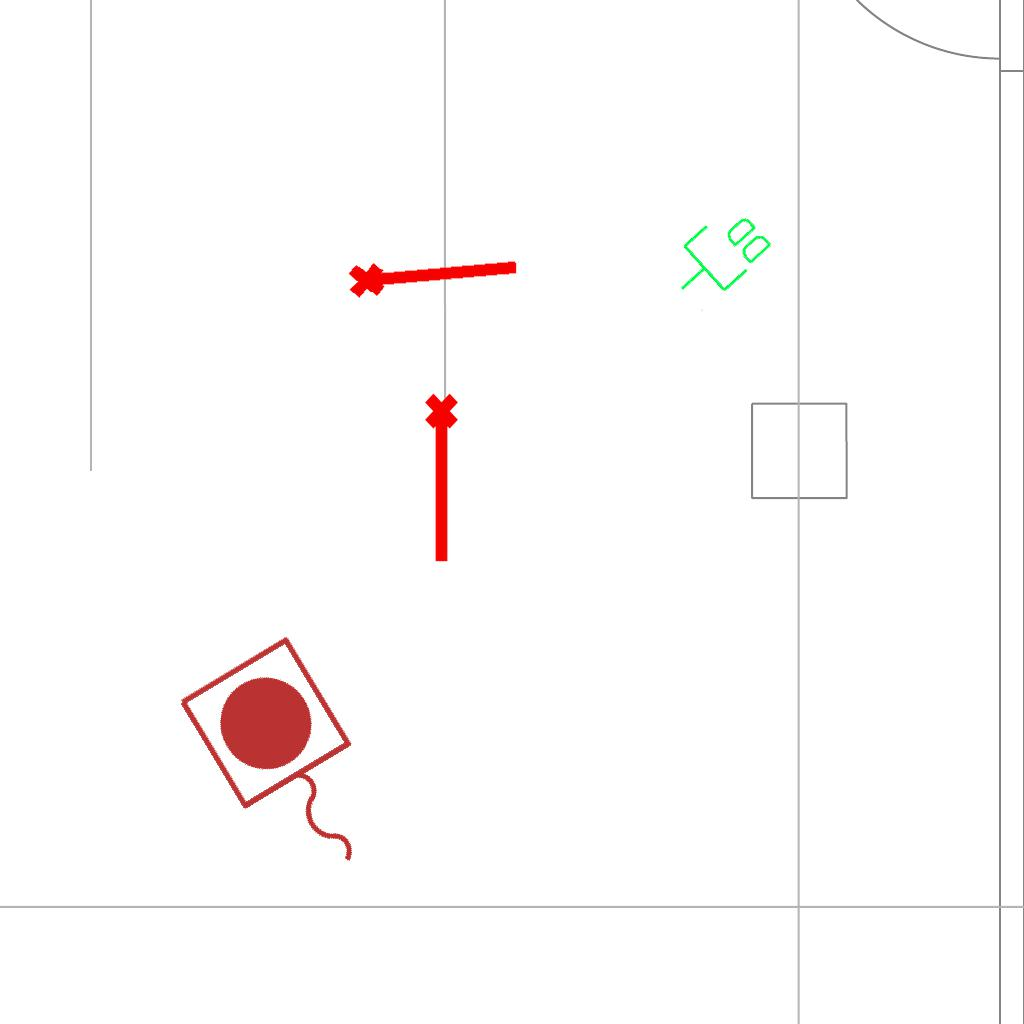ASR_Ansaugoeffnung: (344, 241, 524, 303), (421, 391, 467, 567)
Datenanschluss_zweifach: (657, 196, 780, 317)
Zugtaster: (165, 625, 415, 909)
